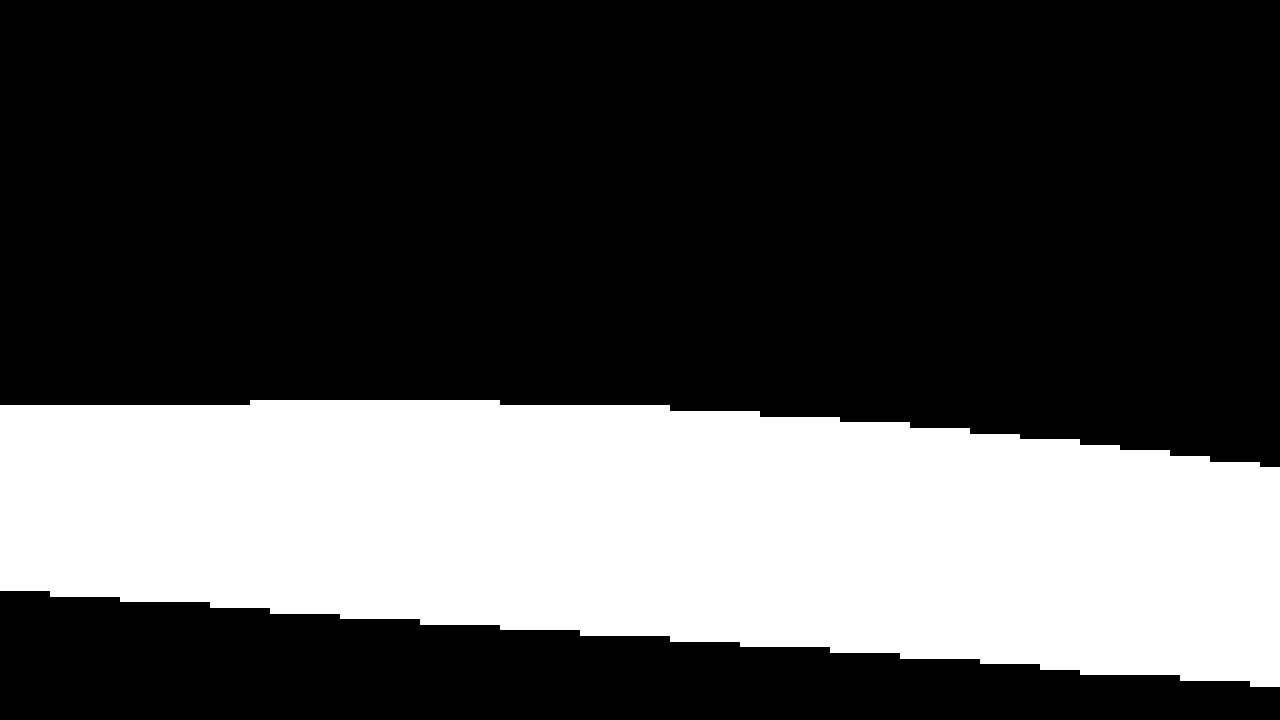Turbine: (25, 371, 1268, 677)
